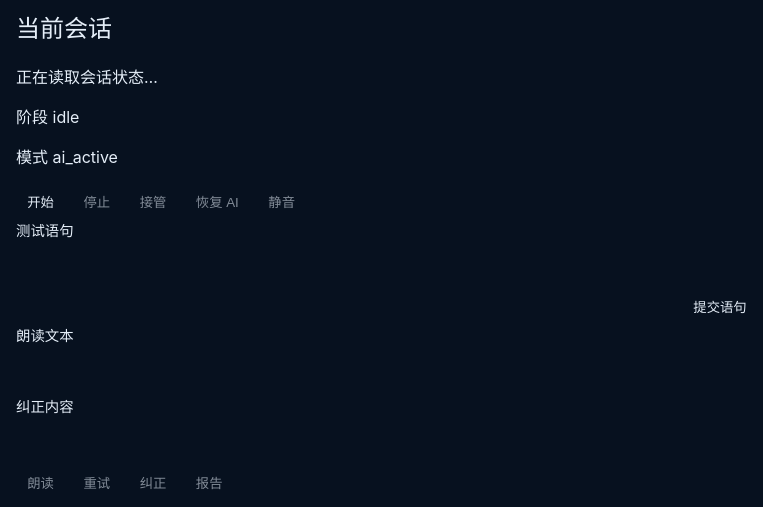
it: WorkspaceSession › shows IPC failures and never uses fetch or meeting-bridge copy
This screenshot has width=763, height=507.
Click the button "开始": click(40, 201) [16, 184, 65, 219]
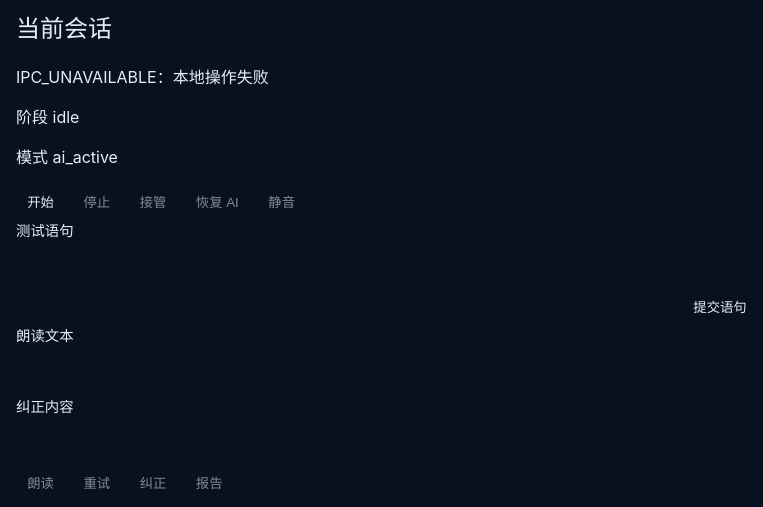
Now the message shows "IPC_UNAVAILABLE：", box [16, 67, 269, 87]
